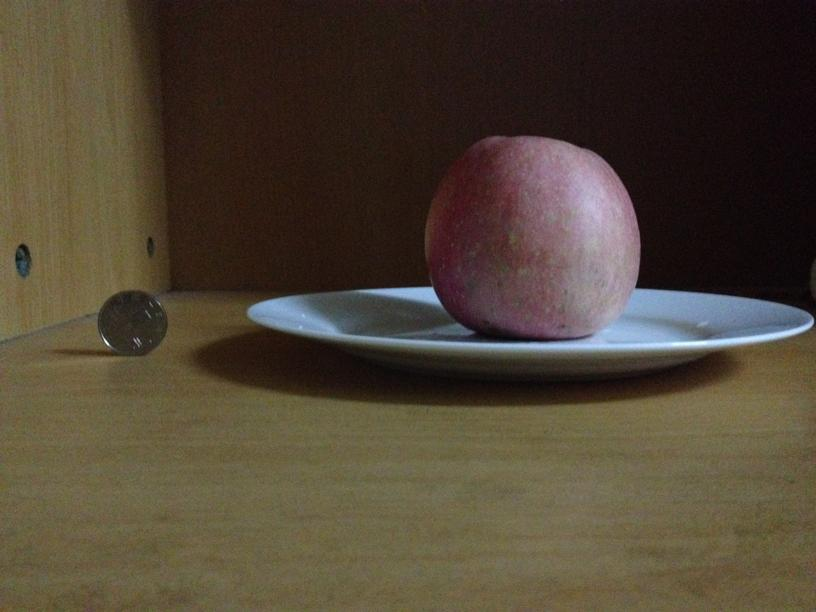apple: (426, 134, 643, 339)
coin: (94, 290, 168, 356)
